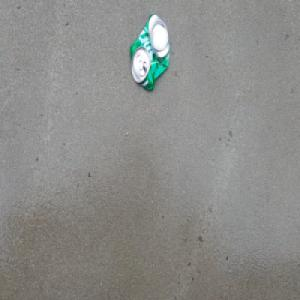SodaCan: (129, 11, 171, 92)
